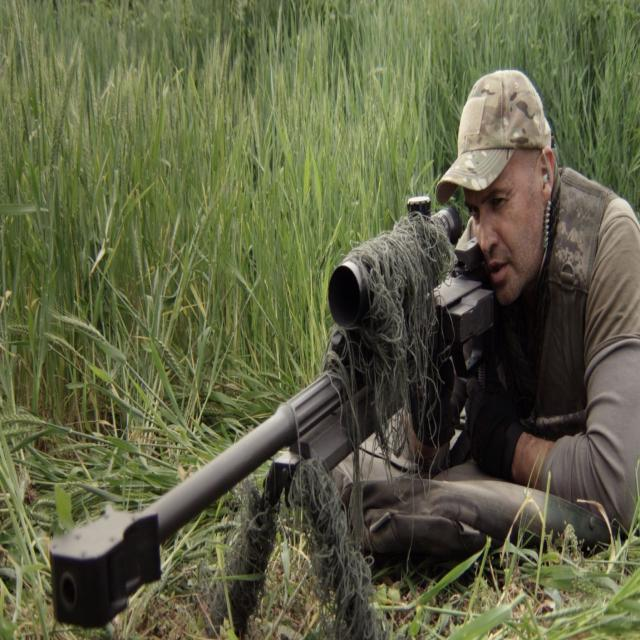Weapon: (51, 257, 385, 626)
